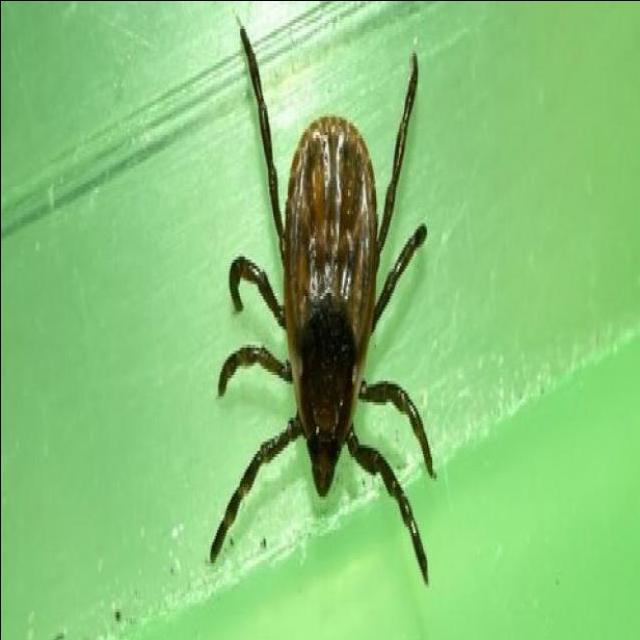Rhipicephalus Sanguineus-F: (208, 22, 435, 587)
